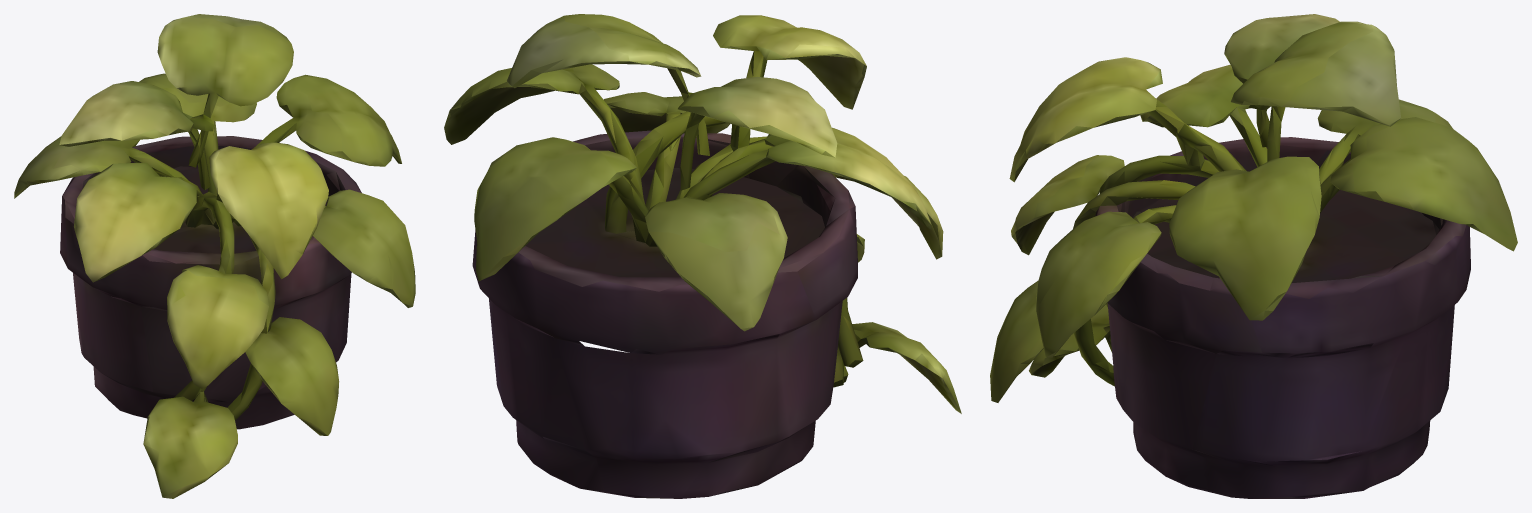
File: deco20.glb
The picture shows the model from 3 angles, left to right: view 1: azimuth 30°, elevation 25°; view 2: azimuth 150°, elevation 25°; view 3: azimuth 270°, elevation 25°; orthographic projection. The views are drawn at different scales.
Size of the model in its own units: 0.2233 by 0.2146 by 0.2369.
1 material, 1 textured.
